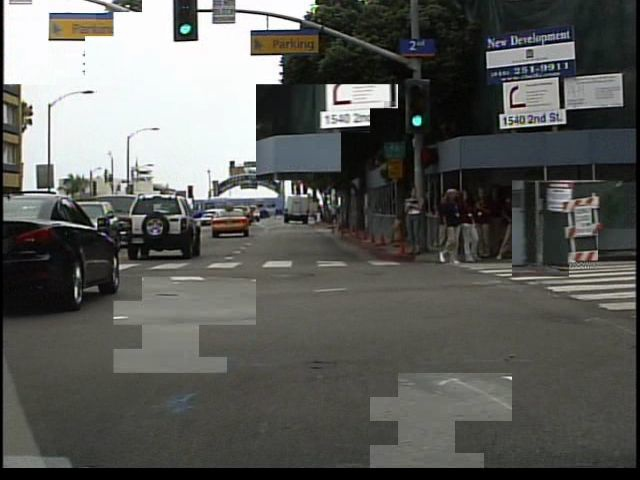person: (405, 181, 430, 259)
